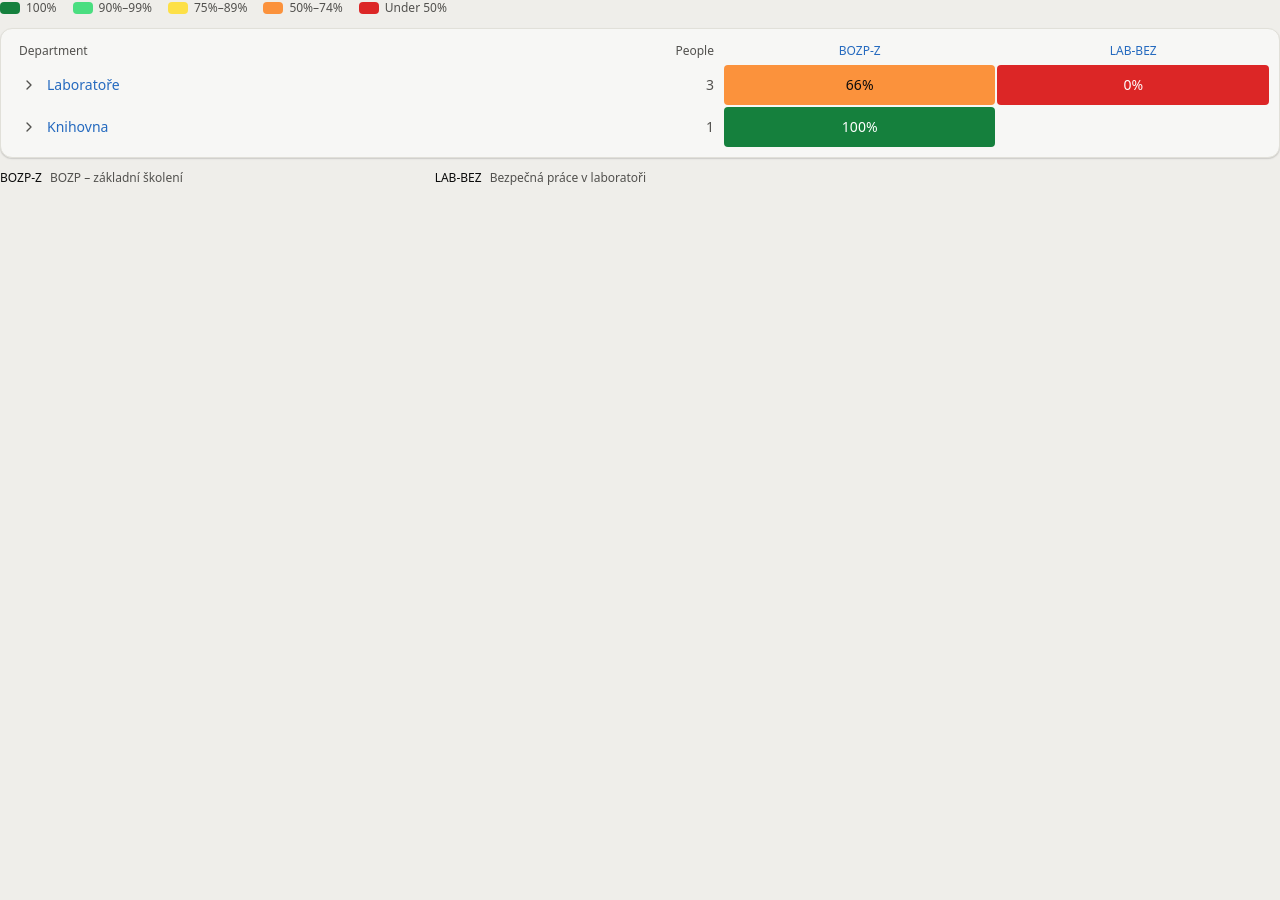
compliance matrix › shows never-completed and never-expiring trainings in the detail
Click the button named "Laboratoře, Bezpečná".
click(1133, 85)  # box [998,65,1269,105]
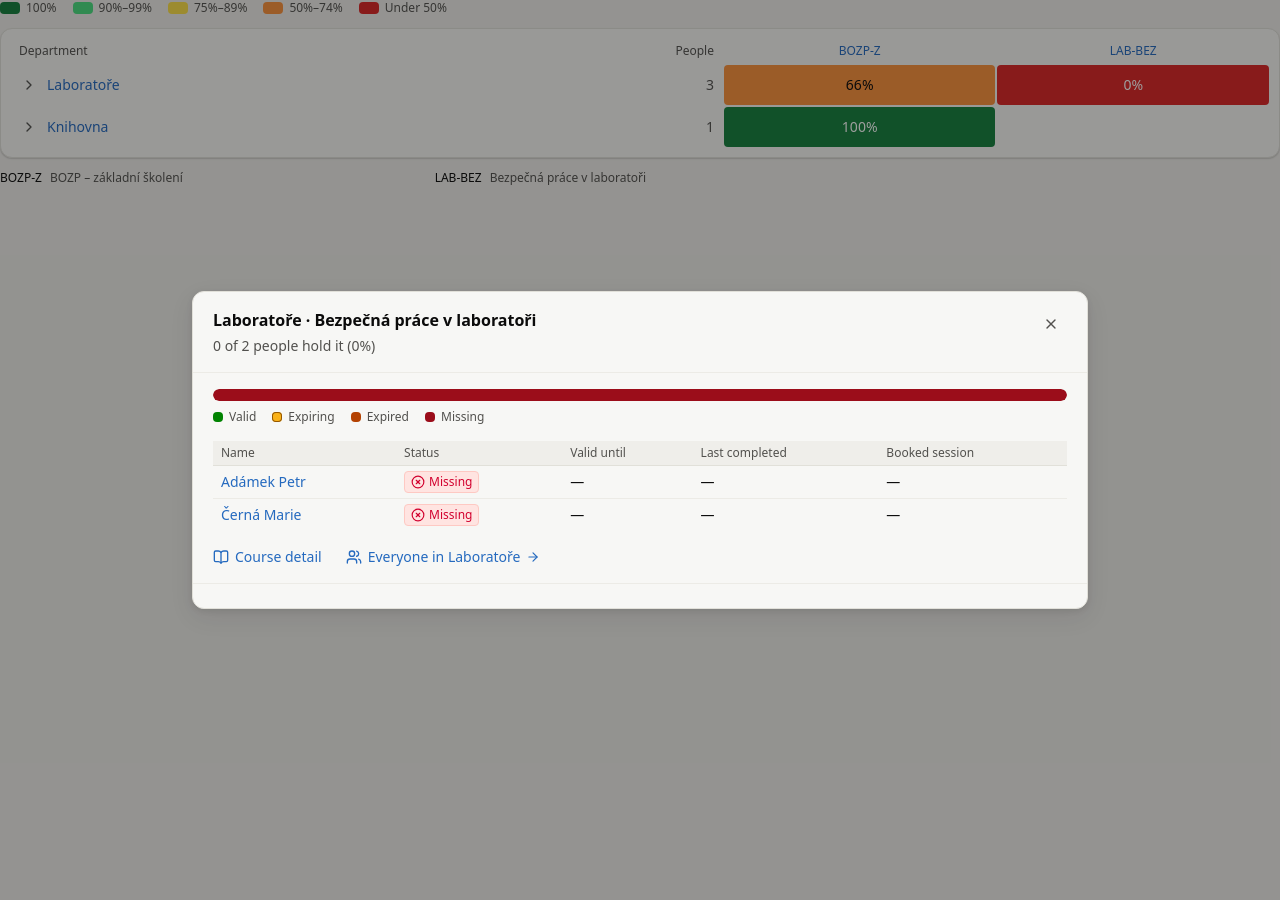
expect the text "—" is shown 6 times: met, box [562,466,693,498]; [693,466,878,498]; [878,466,1067,498]; [562,498,693,531]; [693,498,878,531]; [878,498,1067,531]
Click the button named "Close".
click(1051, 324)  # box [1035,308,1067,340]
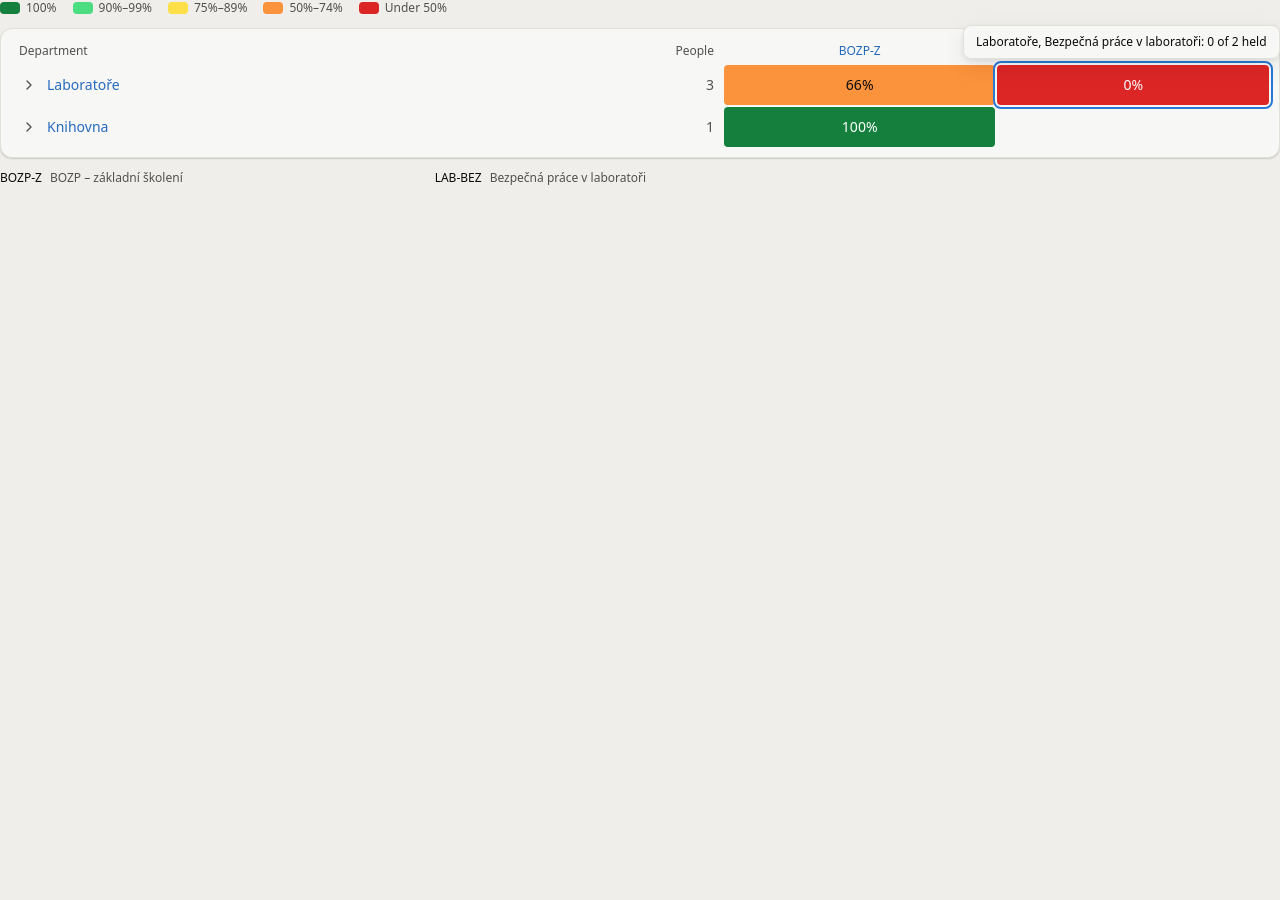
expect the dialog is gone: met
Click the button named "Knihovna, BOZP".
click(860, 127)  # box [724,107,995,147]
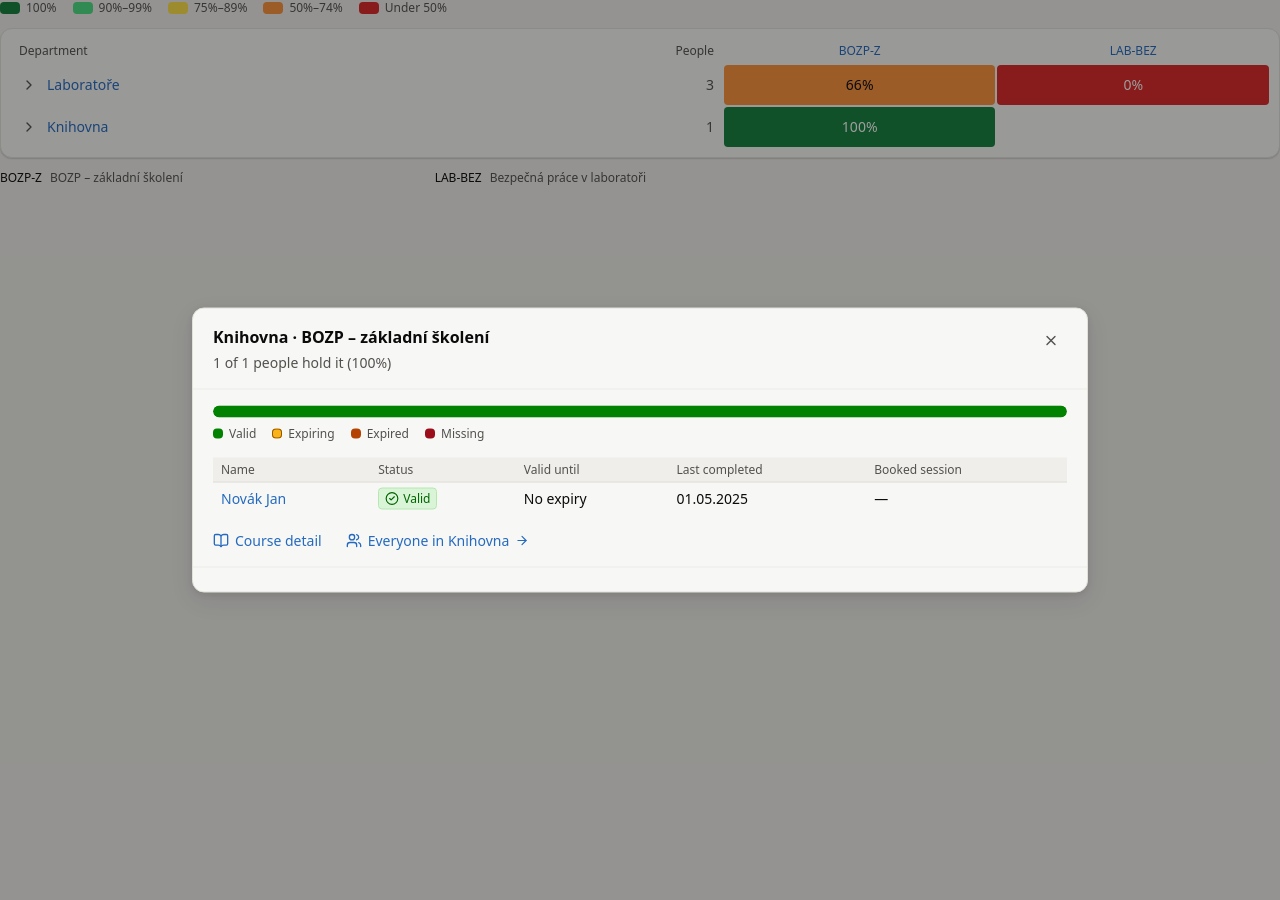
expect the text "No expiry" is shown: met, box [516,482,668,514]
